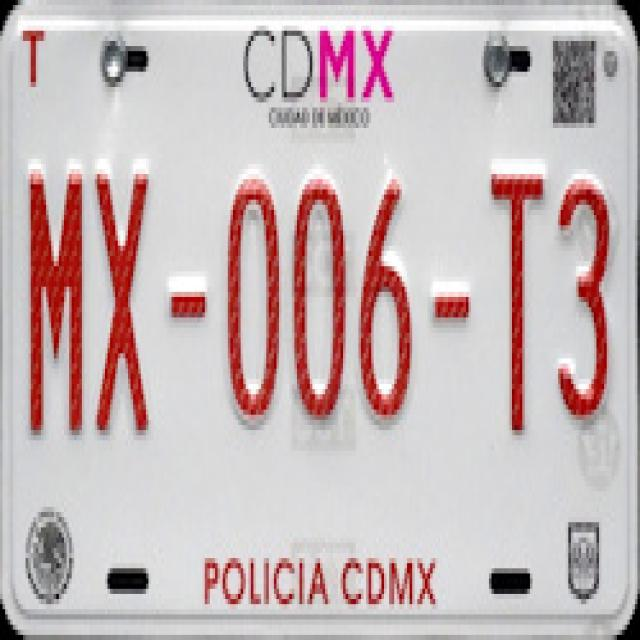placa: (6, 141, 629, 458)
